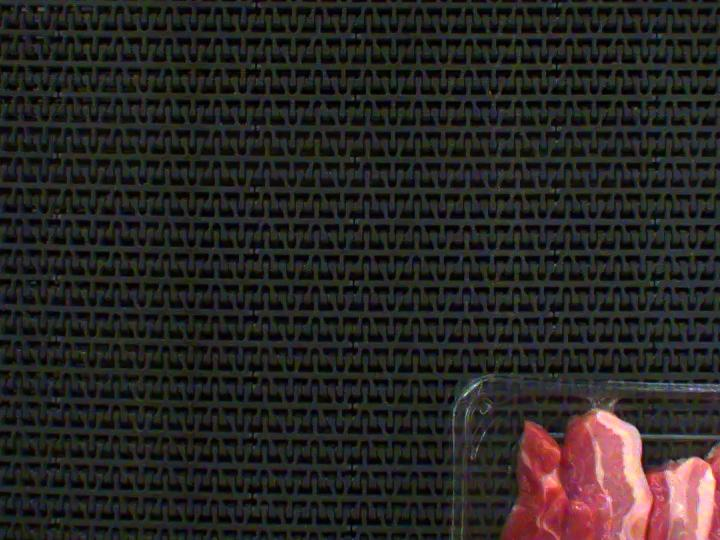packaging-error: (579, 389, 632, 416)
